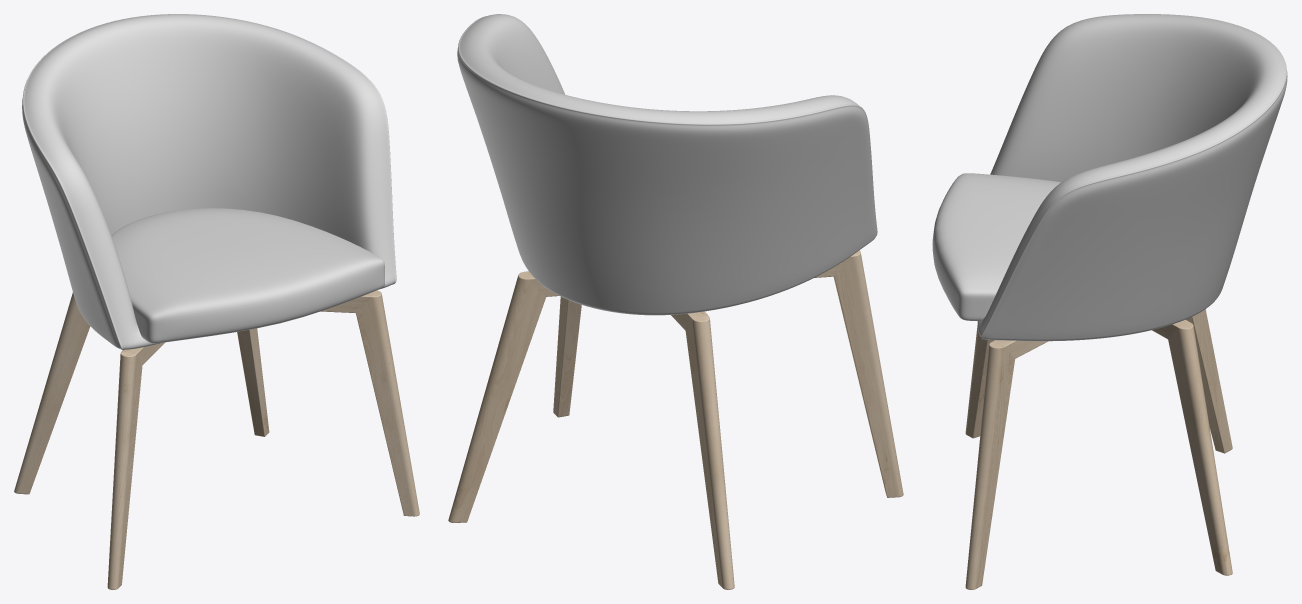
Rendered from chair.glb.
3 views of the same model, side by side, from view 1: azimuth 30°, elevation 25°; view 2: azimuth 150°, elevation 25°; view 3: azimuth 270°, elevation 25° (orthographic). The views are drawn at different scales.
Parts seen in each view (by area): view 1: Plane010, Cylinder065; view 2: Plane010, Cylinder065; view 3: Plane010, Cylinder065.
Part boxes in pixels (x1=…): Plane010: x1=22, y1=14, x2=396, y2=350; Cylinder065: x1=14, y1=290, x2=419, y2=589; Plane010: x1=457, y1=14, x2=877, y2=315; Cylinder065: x1=448, y1=250, x2=903, y2=589; Plane010: x1=932, y1=14, x2=1287, y2=341; Cylinder065: x1=965, y1=309, x2=1232, y2=589.
Size of the model in its own units: 0.7137 by 0.8809 by 0.6404.
2 materials, 1 textured.
